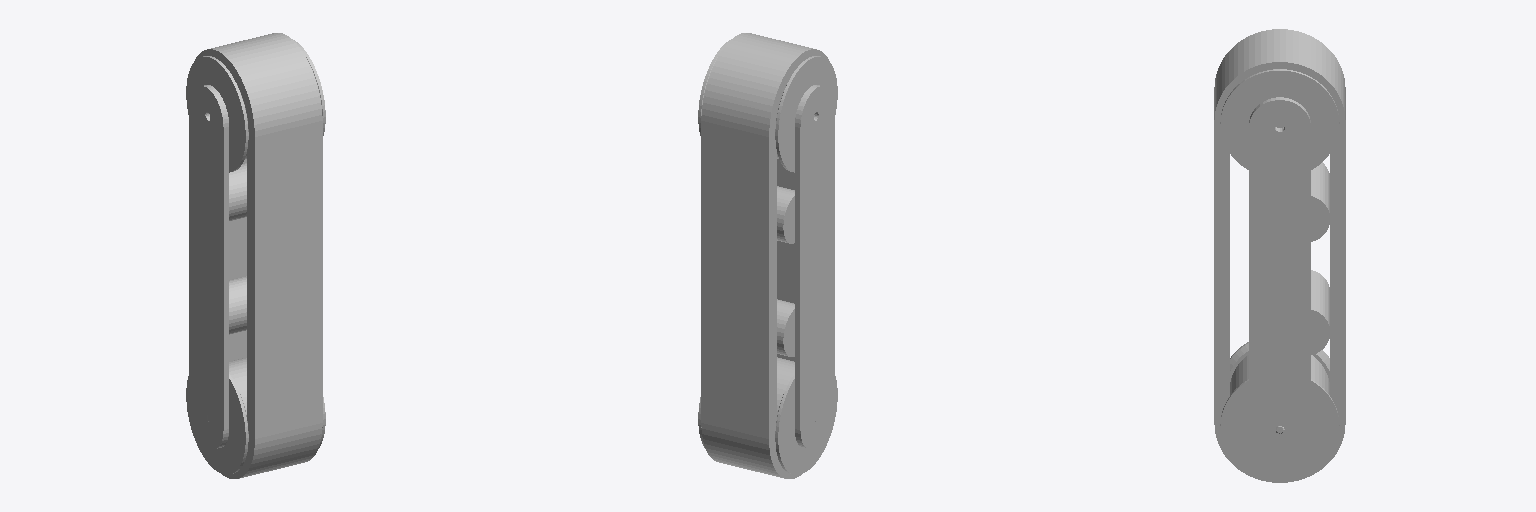
The model's file is flipper_lf.obj.
3 renders of one model, left to right at view 1: azimuth 30°, elevation 25°; view 2: azimuth 150°, elevation 25°; view 3: azimuth 270°, elevation 25°, orthographic.
Size of the model in its own units: 107 by 446 by 126.